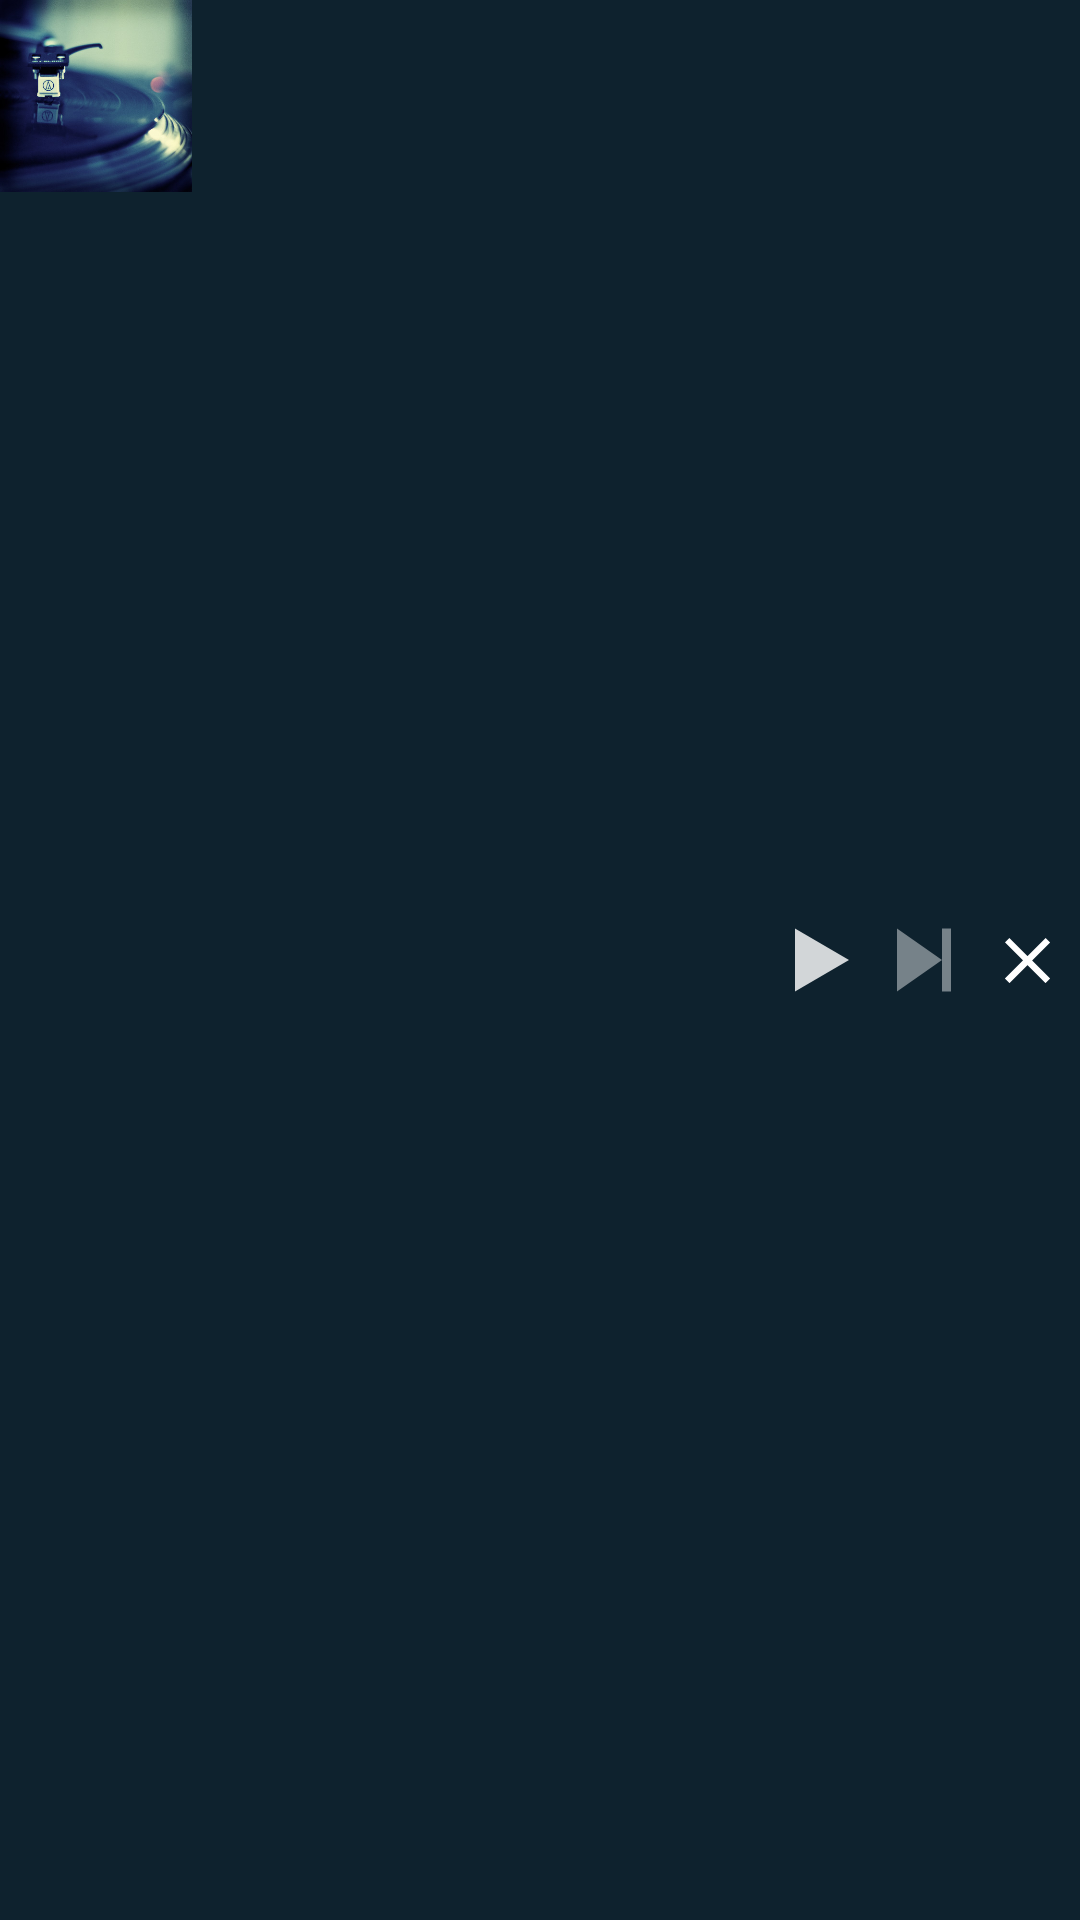

Named icons in this screenshot (1080x1920) and their bounding boxes, (x1, y1, x2, y2):
close: (1005, 938, 1050, 983)
music: (0, 0, 192, 192)
play: (795, 928, 849, 992)
skip track: (897, 928, 951, 992)
